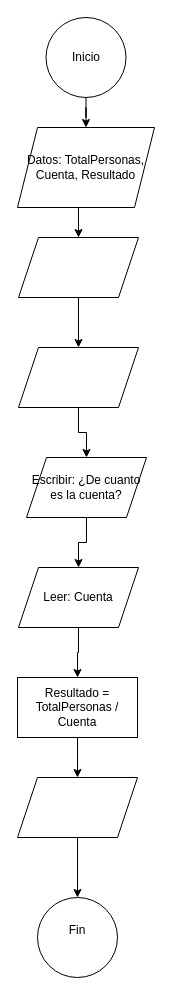
The diagram is 172 pixels wide and 995 high, and some of its shapes have lost their labels. Here are the shapes that lost their labels. From the top down, the centre of each, then its label:
At (x=78, y=267): "Escribir: ¿Cuantos comensales hay?".
At (x=78, y=377): "Leer: TotalPersonas".
At (x=77, y=807): "Resultado".
